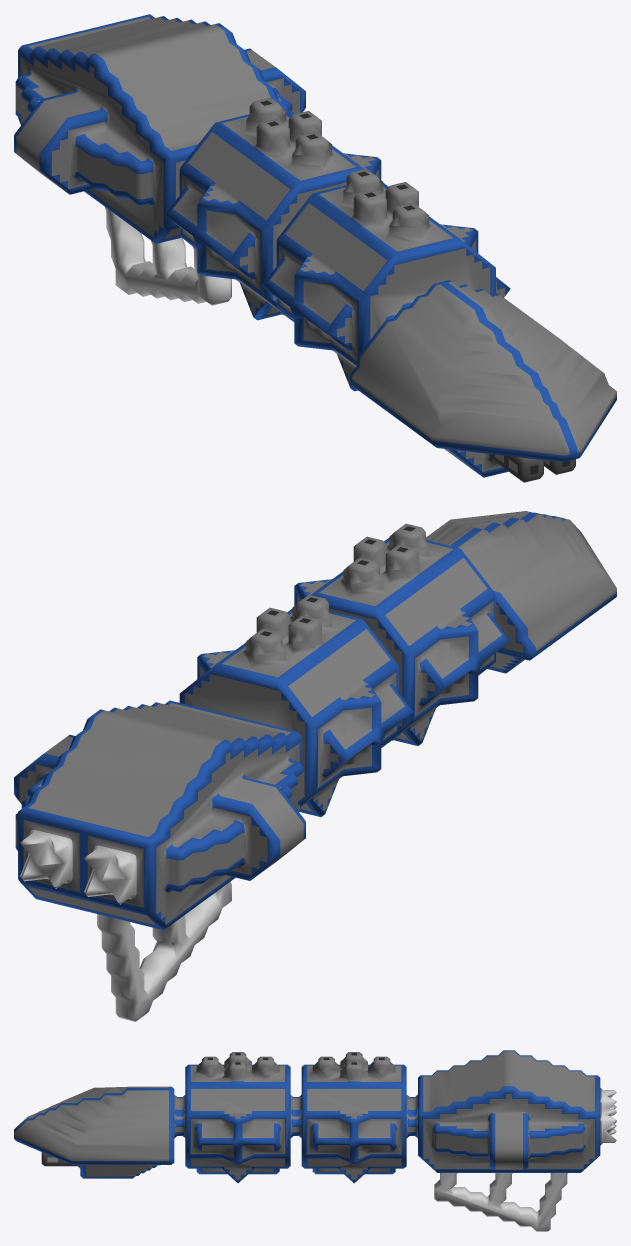
The model's file is diadochi-3-ereshkigal-class.obj.
3 views of the same model, one above another, from view 1: azimuth 30°, elevation 25°; view 2: azimuth 150°, elevation 25°; view 3: azimuth 270°, elevation 25° (orthographic). The views are drawn at different scales.
Bounding box in the file's own units: 33 × 34 × 109.
Materials: 1 (1 with a texture image).
